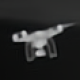plane: (6, 20, 75, 61)
